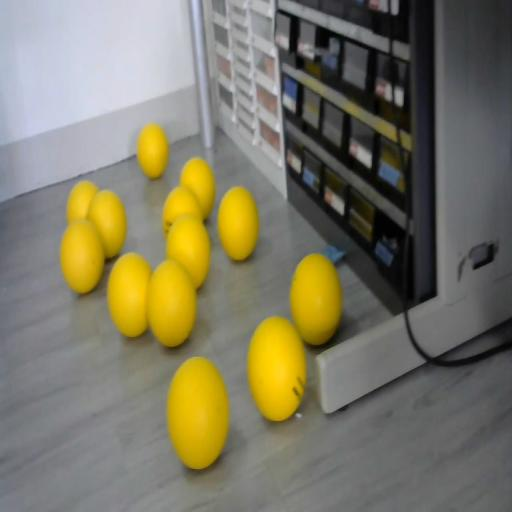FUEL: (165, 353, 230, 468), (246, 315, 308, 420), (288, 253, 342, 346), (106, 253, 152, 337), (164, 212, 212, 289), (217, 186, 259, 261), (87, 189, 127, 259), (180, 157, 216, 218), (136, 123, 168, 179)
